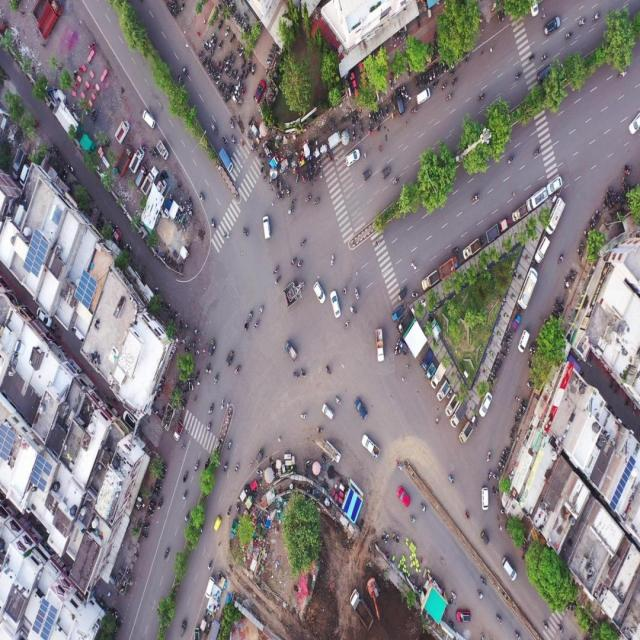3W: (396, 286, 408, 303), (179, 618, 189, 638), (380, 165, 392, 181), (255, 447, 265, 465), (207, 339, 216, 359), (213, 514, 223, 531), (361, 168, 373, 182), (225, 351, 234, 369), (480, 530, 490, 546)
Cars: (502, 550, 518, 583), (543, 15, 565, 37), (534, 238, 551, 264), (353, 396, 369, 422), (329, 288, 342, 319), (397, 484, 412, 509), (624, 112, 640, 135), (262, 215, 274, 245), (253, 79, 266, 106), (517, 328, 531, 353), (454, 608, 473, 626), (344, 148, 361, 168), (322, 400, 336, 424), (312, 283, 327, 305), (479, 486, 490, 515), (415, 88, 431, 107), (547, 176, 563, 195), (142, 109, 157, 129), (480, 394, 493, 416), (205, 576, 215, 599), (395, 90, 403, 116)
LCV: (517, 267, 540, 311), (546, 198, 567, 236), (361, 433, 381, 465), (527, 186, 548, 211), (451, 401, 467, 429), (430, 362, 445, 391), (439, 257, 458, 278), (421, 271, 440, 291), (115, 119, 131, 142), (463, 239, 479, 262), (130, 147, 143, 175), (374, 327, 384, 363), (219, 149, 234, 173), (396, 315, 411, 337), (438, 378, 450, 404), (134, 165, 147, 188), (460, 423, 473, 446), (445, 395, 458, 418), (421, 349, 434, 372), (285, 339, 298, 361), (156, 138, 169, 160), (328, 130, 343, 149), (512, 205, 527, 222), (172, 422, 184, 442), (391, 306, 404, 323), (511, 314, 521, 333), (399, 338, 408, 357), (426, 364, 435, 381)
M2W: (35, 2, 61, 43), (298, 409, 310, 423), (575, 15, 586, 29), (198, 190, 207, 207), (590, 11, 602, 23), (224, 503, 232, 521), (470, 193, 481, 206), (533, 146, 543, 160), (210, 215, 219, 230), (342, 318, 351, 333), (208, 399, 215, 418), (557, 250, 564, 269), (408, 513, 419, 525), (493, 615, 504, 627), (562, 30, 573, 42), (419, 501, 429, 514), (506, 154, 516, 167), (211, 371, 219, 387), (180, 489, 188, 505), (182, 509, 190, 525), (394, 457, 402, 473), (256, 303, 265, 317), (181, 469, 190, 483), (477, 589, 486, 603), (330, 253, 338, 268), (478, 576, 488, 588), (444, 92, 454, 104), (450, 75, 460, 87), (163, 543, 170, 560), (354, 286, 361, 303), (464, 510, 473, 523), (210, 122, 219, 135), (335, 392, 342, 408), (235, 362, 242, 378), (226, 436, 233, 452), (205, 558, 213, 572), (341, 284, 349, 298), (542, 619, 550, 633), (349, 304, 358, 316), (540, 52, 549, 64), (391, 177, 400, 189), (273, 262, 280, 277), (204, 456, 211, 471), (243, 319, 249, 336), (477, 92, 487, 102), (299, 369, 308, 380), (292, 371, 301, 382), (513, 71, 522, 82), (291, 253, 298, 267), (181, 63, 188, 77), (229, 131, 236, 145), (204, 361, 211, 375), (242, 227, 250, 239), (325, 364, 333, 376), (411, 288, 419, 300), (206, 421, 213, 434), (234, 461, 241, 474), (449, 474, 456, 487), (557, 622, 564, 635), (485, 451, 492, 464), (223, 135, 230, 148), (313, 196, 322, 206), (249, 307, 254, 325), (194, 458, 200, 473), (451, 244, 460, 254), (618, 70, 627, 80), (514, 629, 522, 640), (287, 204, 294, 216), (228, 117, 235, 129), (487, 469, 493, 483), (479, 233, 485, 247), (222, 462, 228, 475), (388, 78, 394, 91), (440, 81, 447, 92), (432, 79, 439, 90), (305, 195, 313, 204), (218, 19, 224, 31), (297, 259, 304, 269), (492, 489, 499, 499), (527, 381, 534, 391), (197, 50, 204, 60), (376, 120, 381, 133), (359, 121, 364, 134), (300, 238, 308, 246), (569, 269, 577, 277), (409, 107, 417, 115), (254, 319, 260, 329), (251, 63, 256, 75), (221, 83, 226, 95), (213, 36, 218, 48), (195, 369, 200, 381), (528, 54, 535, 62), (464, 51, 468, 65), (443, 60, 447, 74), (380, 106, 384, 120), (218, 39, 223, 50), (153, 147, 158, 158), (527, 360, 533, 369), (576, 248, 582, 257), (222, 55, 228, 64), (152, 487, 161, 493), (149, 150, 155, 159), (580, 239, 584, 252), (592, 214, 596, 227), (403, 85, 407, 98), (390, 95, 394, 108), (354, 112, 358, 125), (306, 171, 310, 184), (263, 171, 267, 184), (233, 69, 238, 79), (225, 27, 230, 37), (202, 57, 207, 67), (219, 65, 224, 75), (248, 116, 253, 126), (250, 143, 255, 153), (375, 239, 382, 246), (514, 412, 521, 419), (503, 346, 510, 353), (552, 310, 559, 317), (449, 71, 456, 78), (202, 44, 209, 51), (141, 534, 148, 541), (148, 505, 155, 512), (256, 468, 263, 475), (517, 408, 525, 414), (588, 219, 592, 231), (497, 12, 501, 24), (385, 104, 389, 116), (352, 128, 356, 140), (351, 115, 355, 127), (242, 58, 246, 70), (240, 70, 244, 82), (240, 45, 244, 57), (158, 499, 162, 511), (440, 63, 444, 74), (432, 68, 436, 79), (429, 72, 433, 83), (301, 173, 305, 184), (218, 81, 222, 92), (211, 32, 215, 43), (520, 403, 526, 410), (513, 418, 519, 425), (495, 359, 502, 365), (492, 368, 498, 375), (568, 275, 574, 282), (279, 179, 282, 193), (258, 153, 265, 159), (205, 41, 212, 47), (143, 524, 150, 530), (147, 511, 154, 517), (153, 492, 160, 498), (436, 67, 440, 77), (372, 114, 376, 124), (328, 153, 332, 163), (229, 70, 233, 80), (216, 75, 220, 85), (231, 33, 235, 43), (210, 47, 214, 57), (419, 76, 422, 89), (415, 76, 418, 89), (377, 105, 380, 118), (248, 61, 251, 74), (497, 468, 503, 474), (498, 462, 504, 468), (499, 457, 505, 463), (475, 417, 478, 429), (500, 352, 506, 358), (261, 162, 264, 174), (275, 178, 278, 190), (247, 134, 253, 140), (229, 50, 232, 62), (217, 61, 221, 70), (142, 145, 148, 151), (494, 474, 499, 481), (502, 451, 509, 456), (426, 74, 429, 85), (423, 75, 426, 86), (237, 76, 240, 87), (232, 55, 235, 66), (493, 365, 501, 369), (507, 332, 512, 338), (505, 341, 511, 346), (296, 174, 299, 184), (244, 69, 247, 79), (506, 337, 511, 342)
Truck: (349, 589, 374, 631), (114, 145, 133, 177)
